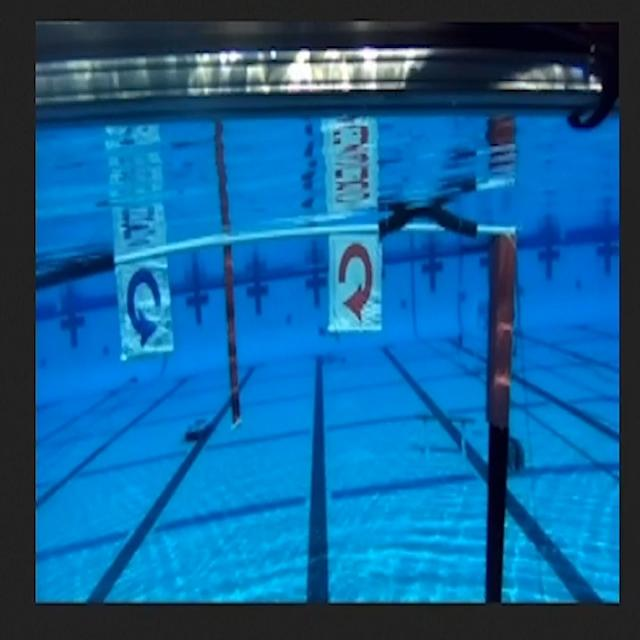Gate: (37, 241, 529, 601)
